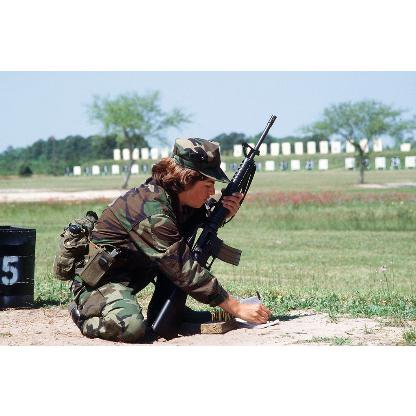gun: (150, 111, 276, 339)
